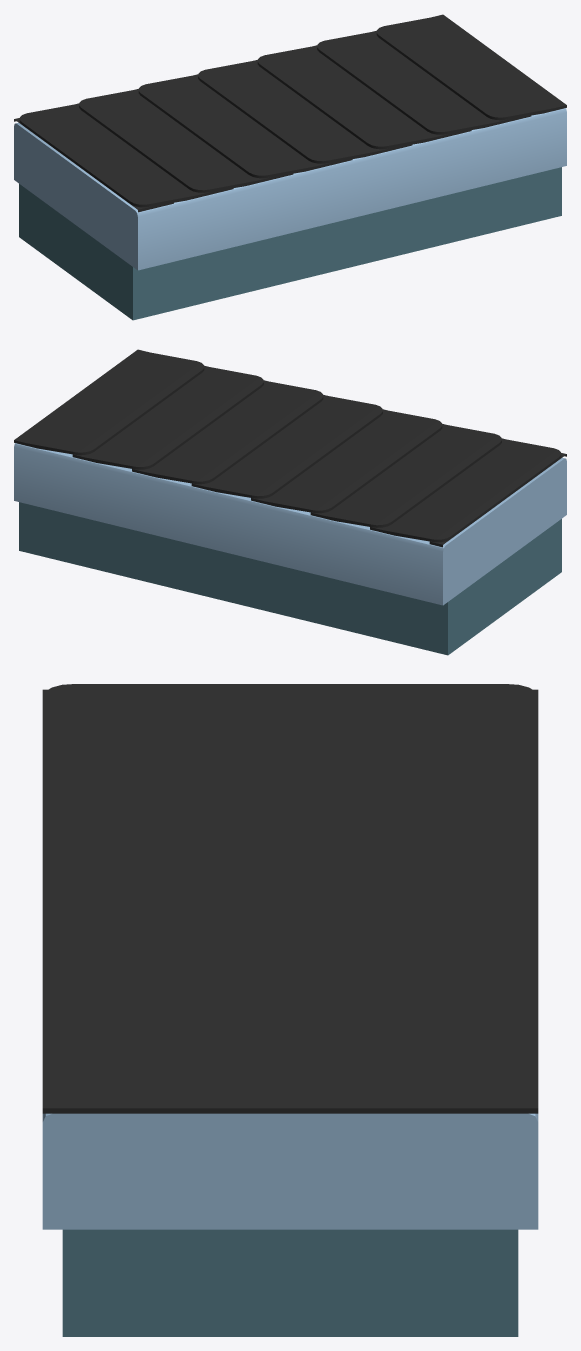
File: airport-baggage-carousel-1.glb
The picture shows the model from 3 angles, top to bottom: view 1: azimuth 30°, elevation 25°; view 2: azimuth 150°, elevation 25°; view 3: azimuth 270°, elevation 25°; orthographic projection. The views are drawn at different scales.
Visible parts, largest first — view 1: 12.2.BaggageClaimBand_AIRPORT_0; view 2: 12.2.BaggageClaimBand_AIRPORT_0; view 3: 12.2.BaggageClaimBand_AIRPORT_0.
Part boxes in pixels (<box>): 12.2.BaggageClaimBand_AIRPORT_0: <box>14,14,566,320</box>; 12.2.BaggageClaimBand_AIRPORT_0: <box>14,349,566,655</box>; 12.2.BaggageClaimBand_AIRPORT_0: <box>42,684,538,1336</box>.
Size of the model in its own units: 3.5 by 0.9123 by 1.75.
1 material, 1 textured.
